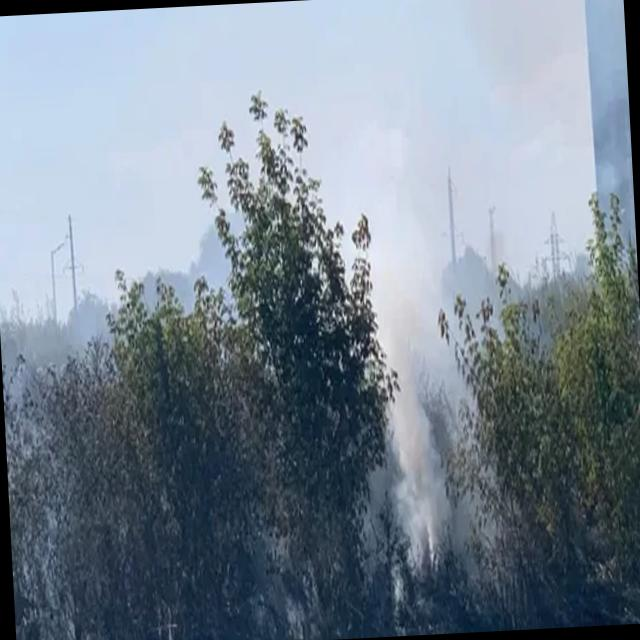Smoke: (334, 142, 496, 550)
